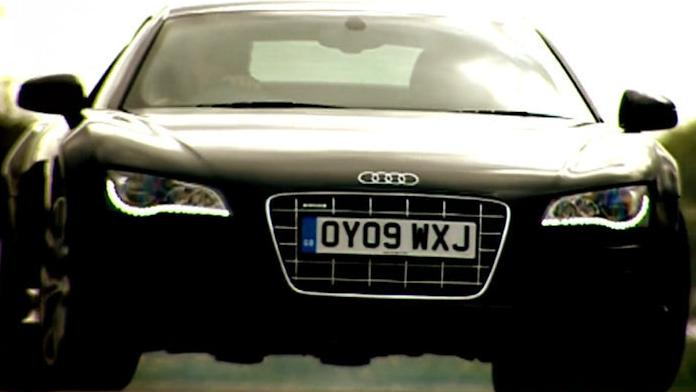front_view: (79, 115, 684, 335)
headlight: (104, 159, 232, 223)
